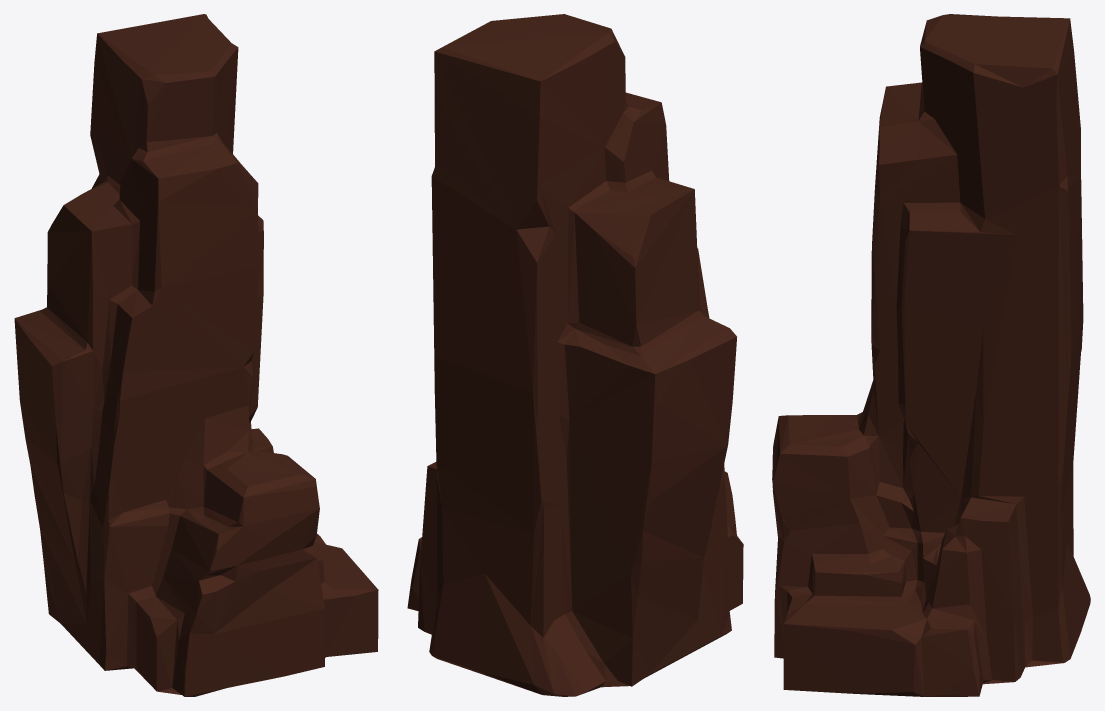
File: sc_FeiTu_mesh_shan8.FBX
The picture shows the model from 3 angles, left to right: view 1: azimuth 30°, elevation 25°; view 2: azimuth 150°, elevation 25°; view 3: azimuth 270°, elevation 25°; orthographic projection. The views are drawn at different scales.
Parts seen in each view (by area): view 1: mesh_shan8; view 2: mesh_shan8; view 3: mesh_shan8.
Boxes of the visible parts, left/top/right/bottom form: mesh_shan8: left=14, top=14, right=378, bottom=696; mesh_shan8: left=407, top=14, right=743, bottom=696; mesh_shan8: left=772, top=14, right=1090, bottom=696.
Size of the model in its own units: 749 by 1428 by 691.
